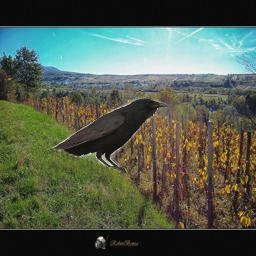Crow: (52, 97, 167, 173)
